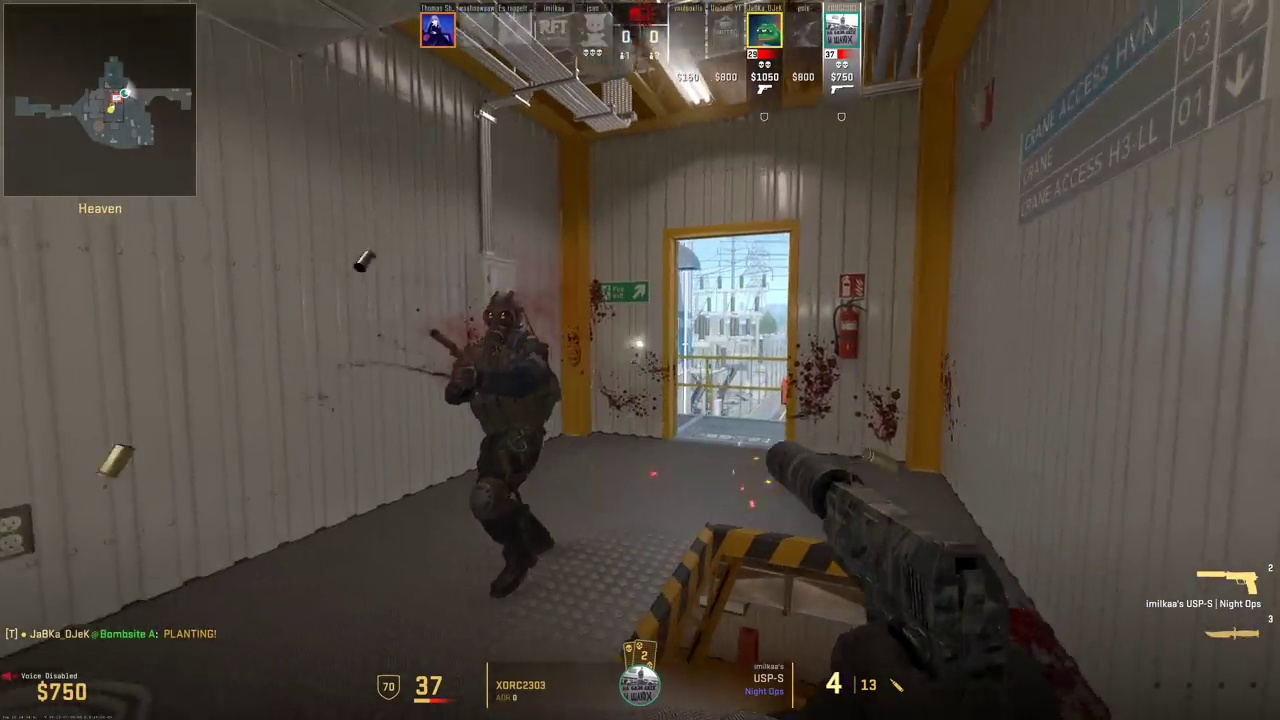CT: (451, 289, 563, 594)
